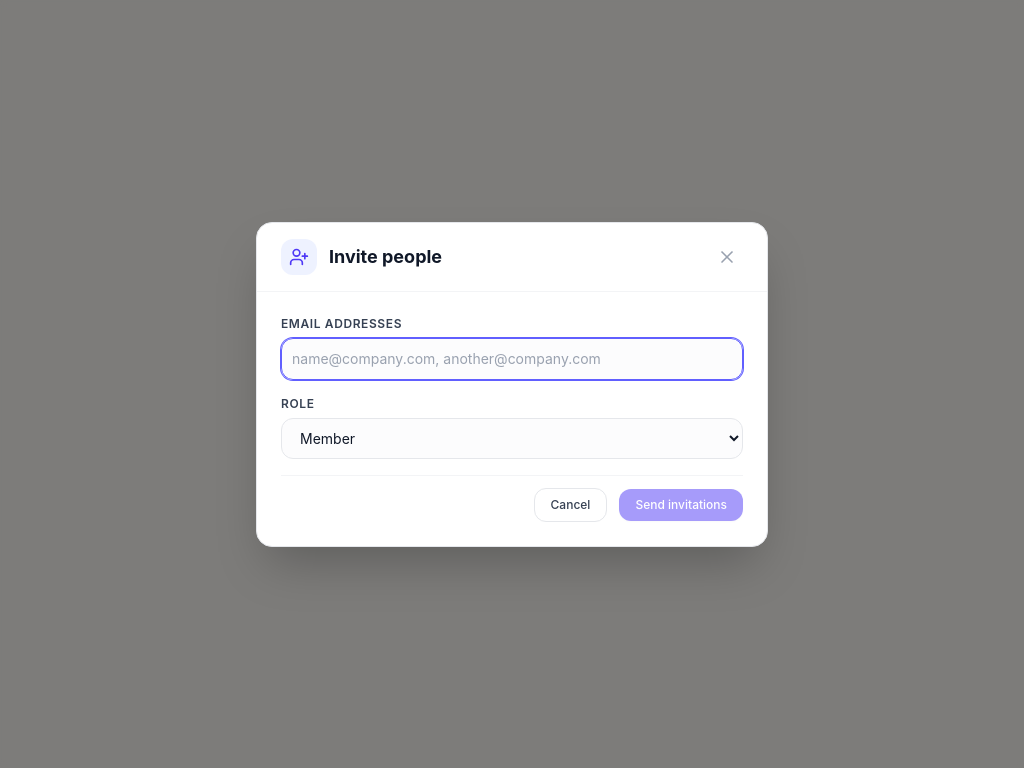
Test: InviteMembersModal › keeps only the addresses that failed, and says why
The width and height of the screenshot is (1024, 768).
In the field labelled "Email addresses": x=512, y=358 left=292, top=346, right=732, bottom=370, type "ok@x.com taken@x.com"
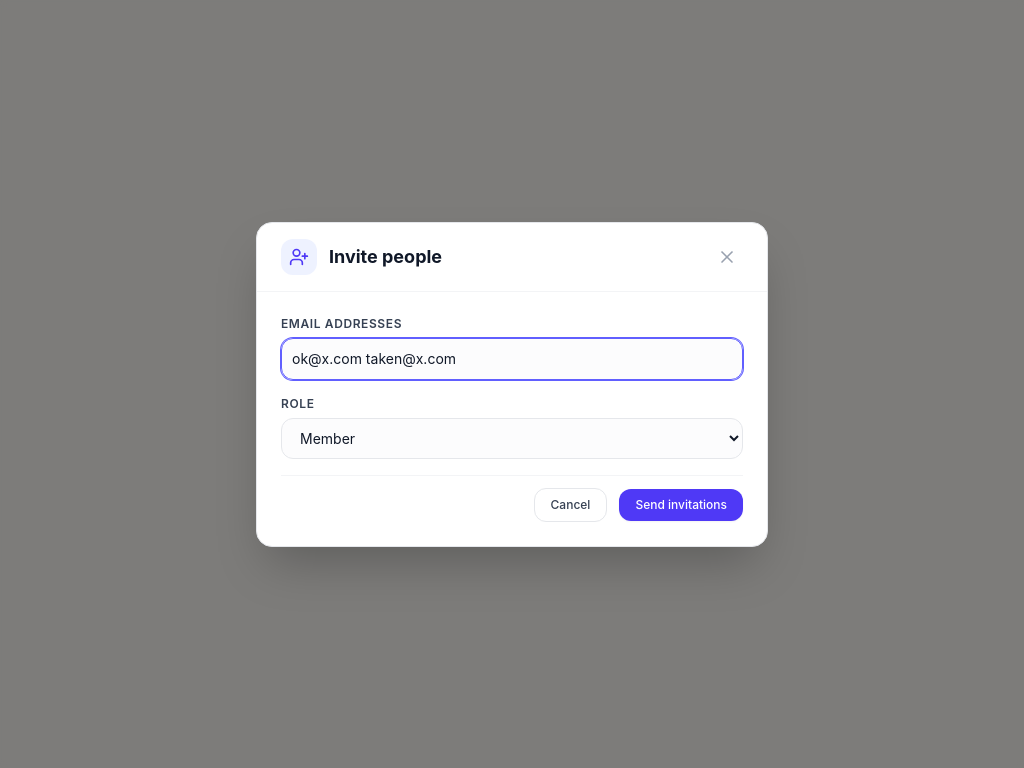
Click the button "Send invitations": x=681, y=504 left=619, top=488, right=743, bottom=520
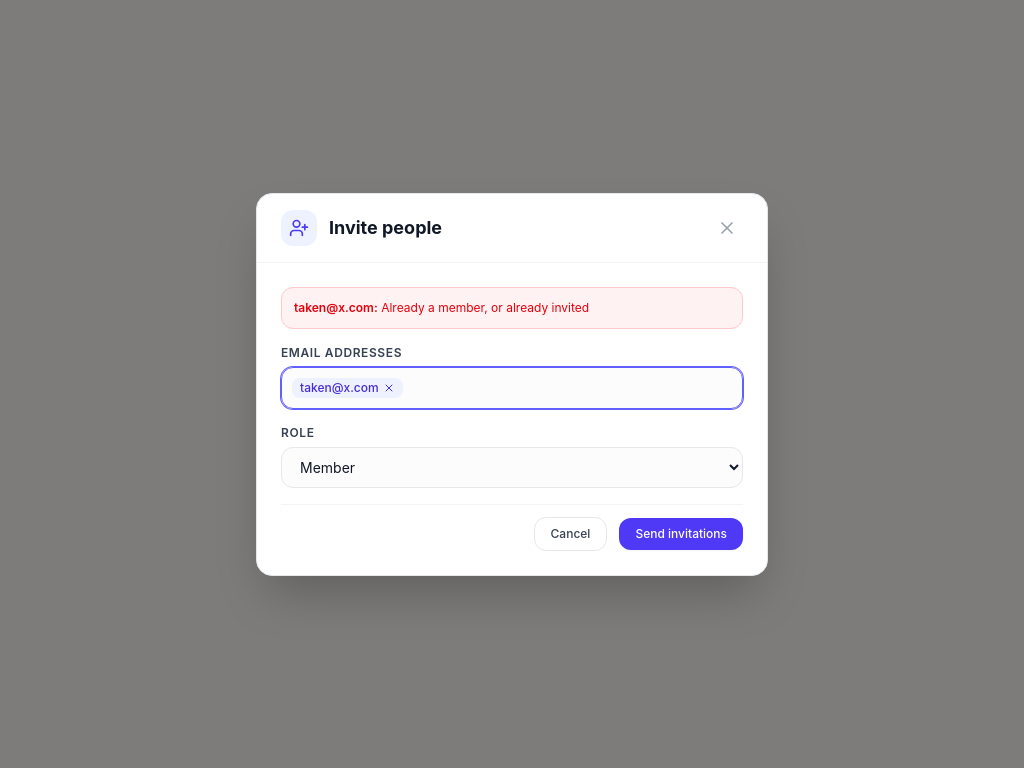
Expected: the message shows "Already a member, or already invited", left=381, top=300, right=589, bottom=314
Expected: the button named "Remove taken@x.com" is shown, left=383, top=382, right=395, bottom=394
